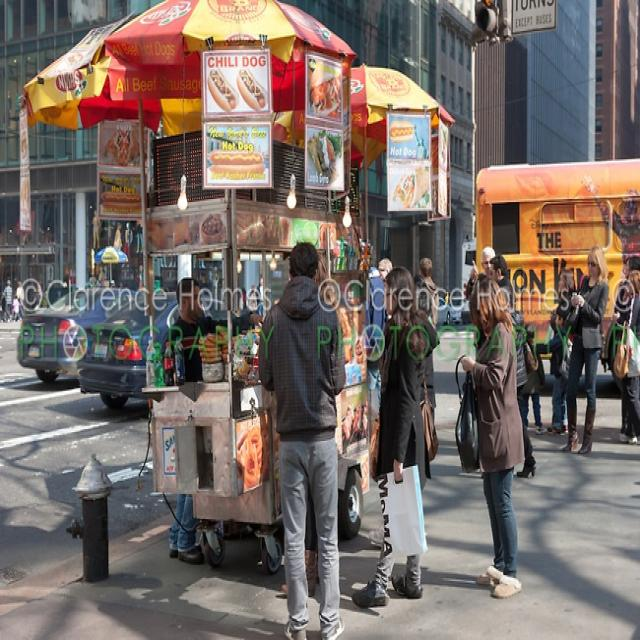body: (255, 236, 350, 638), (350, 261, 441, 613), (159, 274, 265, 568), (314, 251, 443, 466), (450, 276, 528, 603), (558, 242, 612, 456), (497, 280, 537, 481), (532, 301, 576, 436), (614, 254, 640, 445), (609, 246, 637, 423), (88, 202, 144, 289), (520, 322, 548, 436), (0, 208, 70, 249), (465, 243, 497, 301), (548, 267, 576, 330), (488, 254, 517, 312), (0, 276, 13, 323), (10, 293, 21, 323), (14, 280, 24, 305)
